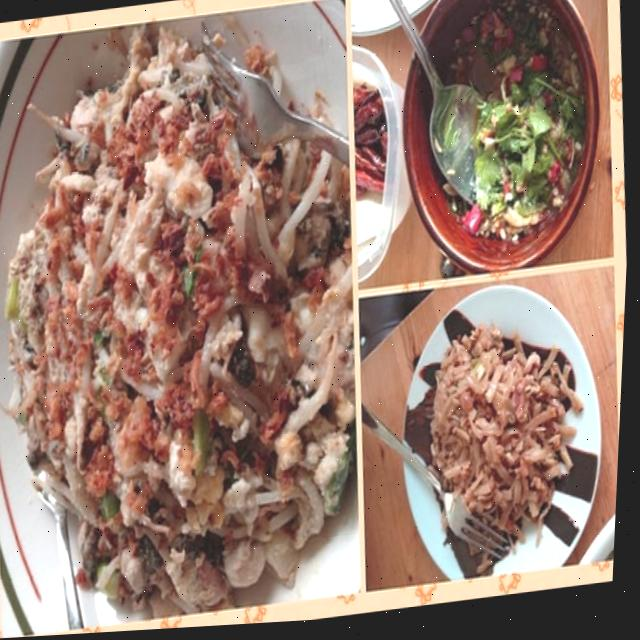炸货点心: (0, 19, 370, 640)
蛋糕甜品: (0, 19, 370, 640)
